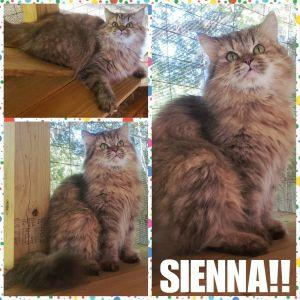persian: (192, 8, 294, 109)
